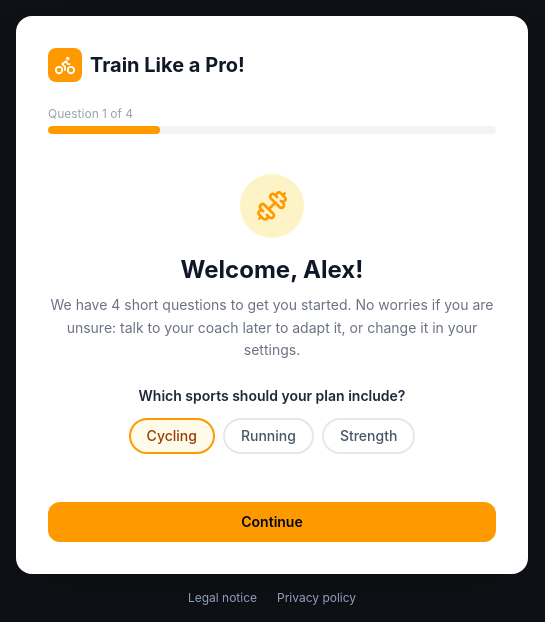
Test: OnboardingPage › asks for the days only, not for weekly hours (ai-trainer-ops#116)
What coordinates should you click on to do the following:
click the button "Continue"
I would click on:
 (272, 522)
Its box is [48,502,496,542].
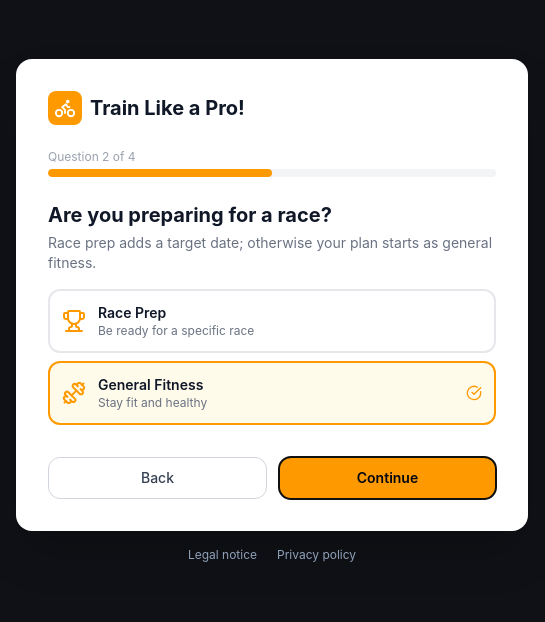
What coordinates should you click on to do the following:
click the button "Continue"
I would click on:
 (388, 478)
Its box is [279,457,496,499].
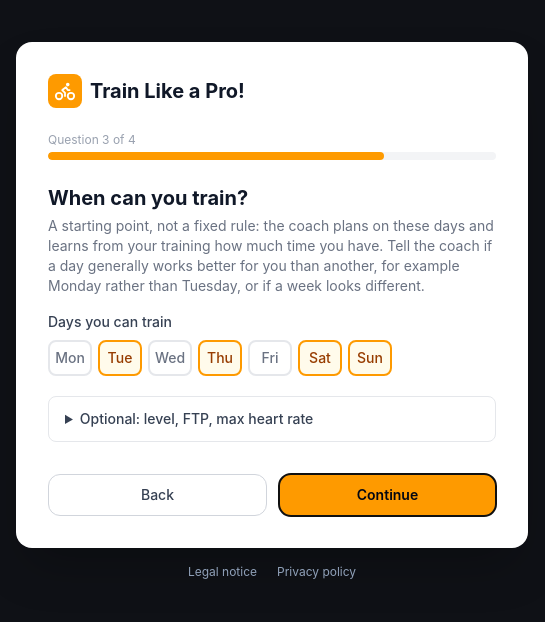
Now the heading "When can you train?" is shown, box [48,186,248,210]
Now the text "learns from your training how much time you have" is shown, box [48,217,494,294]
